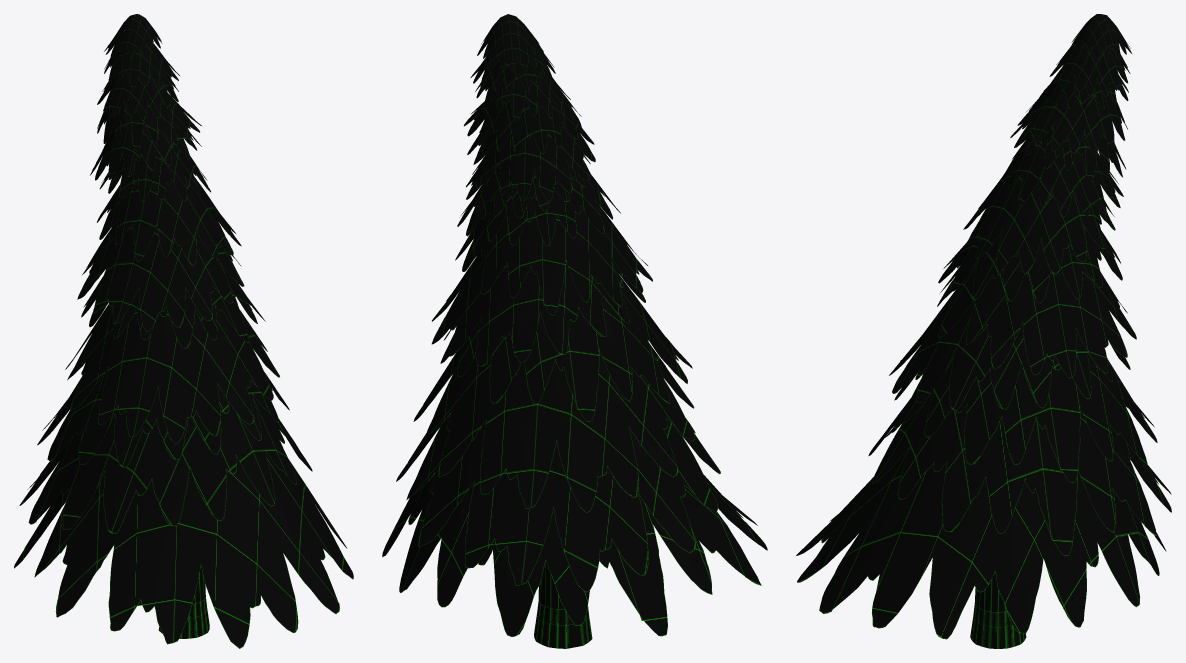
The model's file is Tree_Final.fbx.
3 renders of one model, left to right at view 1: azimuth 30°, elevation 25°; view 2: azimuth 150°, elevation 25°; view 3: azimuth 270°, elevation 25°, orthographic. The views are drawn at different scales.
Parts seen in each view (by area): view 1: Tree; view 2: Tree; view 3: Tree.
Boxes of the visible parts, x1,y1,x2,y2 form: Tree: (14,14,353,648); Tree: (382,14,767,648); Tree: (796,14,1171,648).
Bounding box in the file's own units: 7.84 × 15.06 × 8.23.
